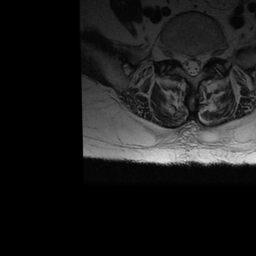CCS_normal: (188, 49, 196, 80)
LFS_normal: (205, 44, 212, 66)
LLS_normal: (197, 48, 204, 77)
RFS_normal: (173, 46, 181, 67)
RLS_normal: (181, 49, 188, 77)
